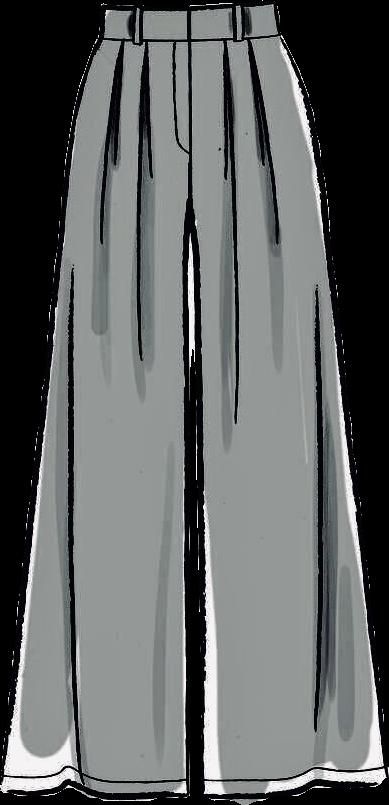Hemline: (202, 771, 388, 802), (2, 779, 187, 804)
Pantleg: (185, 0, 383, 796), (5, 9, 189, 793)
Waistline: (102, 26, 281, 49), (104, 0, 277, 19)
